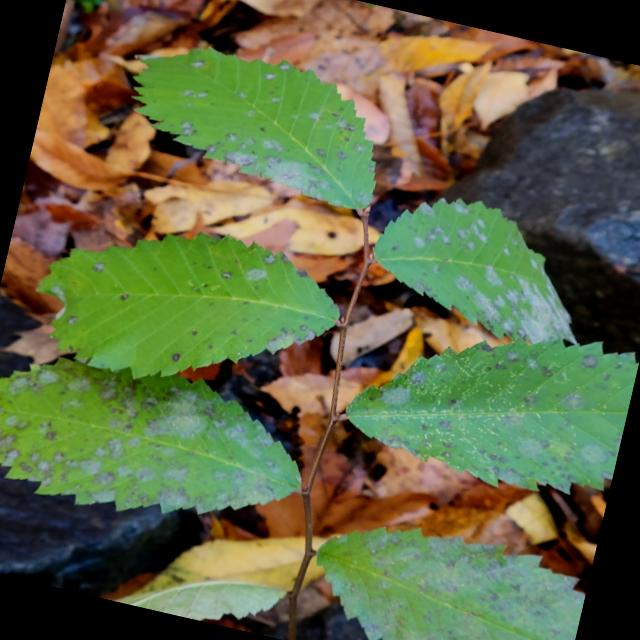powdery_mildew: (346, 339, 638, 492), (138, 48, 374, 208), (374, 198, 575, 343)
